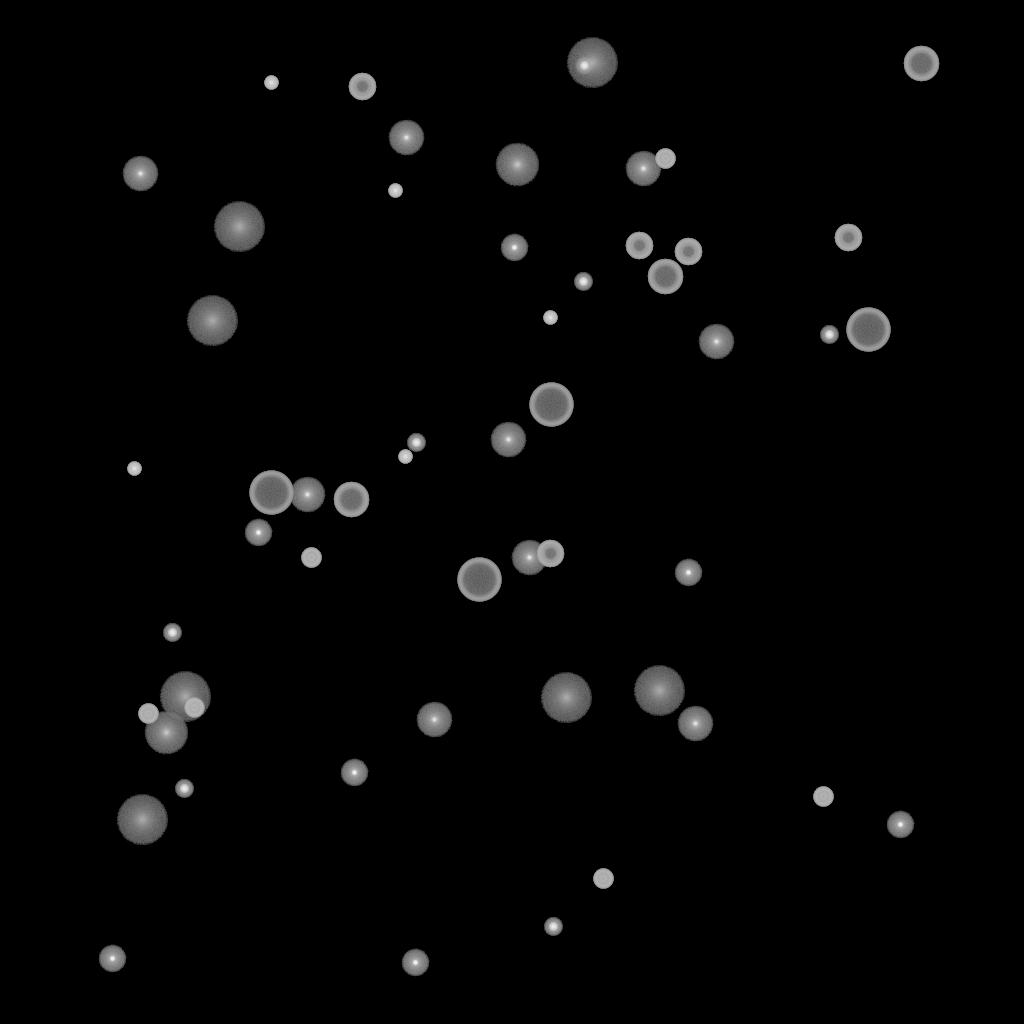depth:-10: (886, 811, 914, 839), (340, 759, 368, 787), (401, 949, 429, 977), (674, 559, 702, 587), (244, 519, 272, 547), (500, 234, 528, 262), (98, 945, 126, 973)
depth:-20: (544, 918, 562, 936), (820, 326, 838, 344), (574, 273, 592, 291), (175, 780, 193, 798), (407, 434, 425, 452), (163, 624, 181, 642), (575, 57, 593, 75)
depth:-30: (127, 462, 141, 476), (388, 184, 402, 198), (398, 450, 412, 464), (264, 76, 278, 90), (543, 311, 557, 325)
depth:-40: (655, 149, 675, 169), (593, 869, 613, 889), (184, 698, 204, 718), (301, 548, 321, 568), (138, 704, 158, 724), (813, 787, 833, 807)
depth:-50: (348, 73, 376, 101), (536, 540, 564, 568), (625, 232, 653, 260), (674, 238, 702, 266), (834, 224, 862, 252)
depth:-60: (647, 259, 683, 295), (333, 482, 369, 518), (903, 46, 939, 82)
depth:-70: (529, 383, 573, 427), (846, 308, 890, 352), (457, 558, 501, 602), (249, 471, 293, 515)
depth:0: (698, 324, 734, 360), (289, 477, 325, 513), (122, 156, 158, 192), (625, 151, 661, 187), (511, 540, 547, 576), (490, 422, 526, 458), (388, 120, 424, 156), (416, 702, 452, 738), (677, 706, 713, 742)
depth:10: (144, 711, 188, 755), (495, 143, 539, 187)
depth:20: (540, 673, 592, 723), (213, 202, 265, 252), (566, 38, 618, 88), (633, 666, 685, 716), (116, 795, 168, 845), (186, 296, 238, 346), (159, 672, 211, 722)
